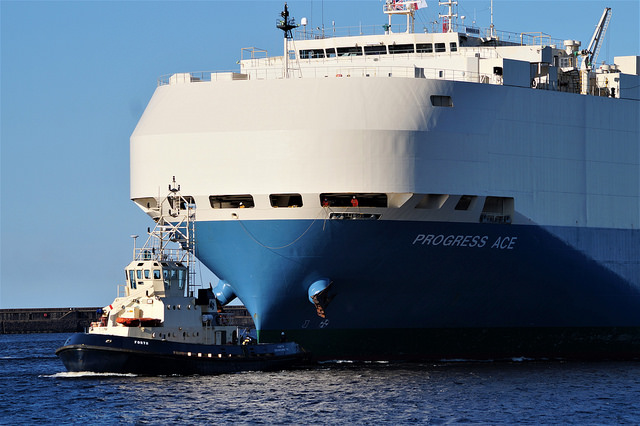PCC: (123, 6, 638, 368)
tug_boat: (49, 199, 255, 375)
